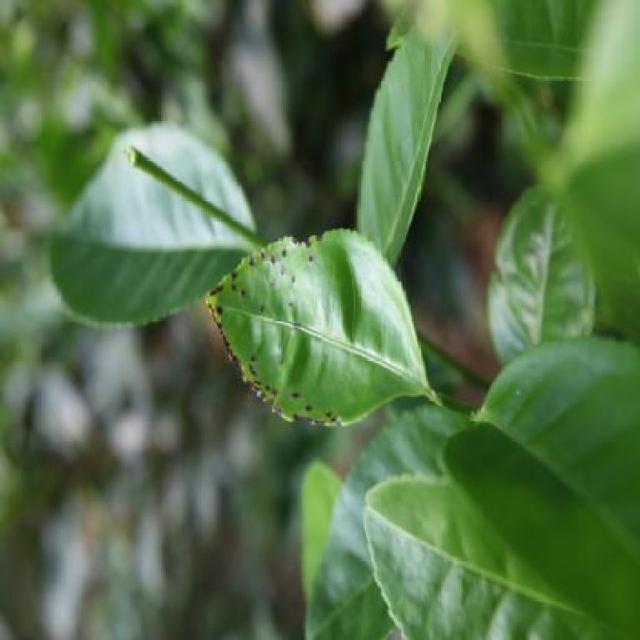Tea Mosquito bug infested leaf: (202, 221, 416, 434)
